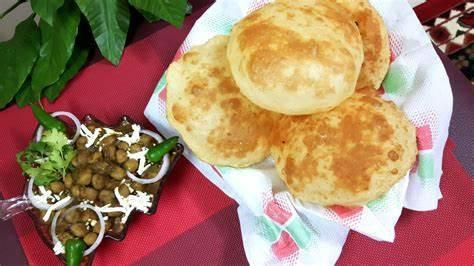Bhatura: (269, 87, 418, 209), (227, 0, 365, 115), (164, 35, 283, 168), (313, 0, 390, 91)
Chole: (43, 127, 151, 245)
